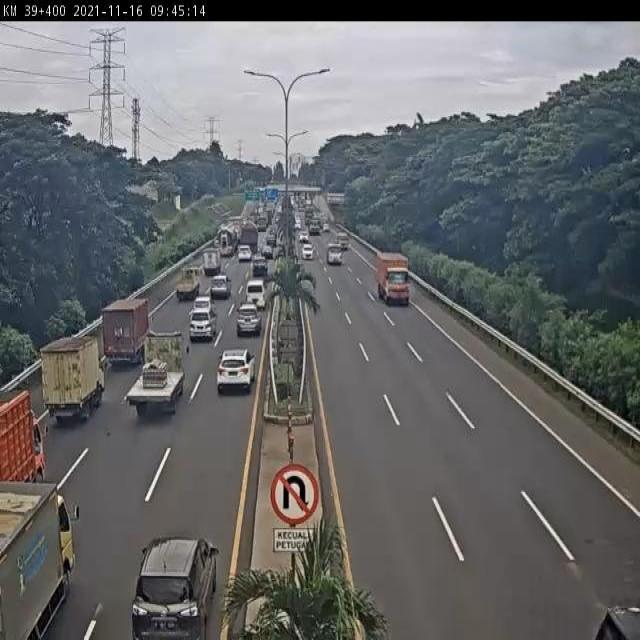Car: (129, 534, 220, 640), (216, 347, 257, 395), (188, 308, 218, 343), (235, 303, 262, 337), (210, 274, 232, 299), (192, 295, 213, 319), (252, 254, 268, 276), (327, 245, 343, 265), (237, 244, 252, 262), (260, 244, 274, 260), (301, 243, 314, 260), (266, 232, 277, 247), (298, 230, 309, 242)
Truck: (0, 483, 81, 640), (38, 332, 108, 425), (124, 329, 190, 416), (0, 389, 52, 484), (102, 298, 154, 368), (376, 251, 411, 305), (174, 266, 202, 301), (214, 223, 238, 257), (201, 248, 222, 278), (240, 222, 259, 254), (228, 215, 243, 240), (335, 232, 349, 250), (307, 217, 320, 236)
Van: (245, 278, 267, 311)
